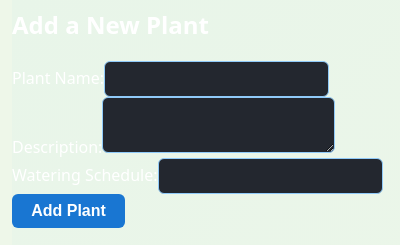
Test: PlantForm Component Tests › submit button is disabled while loading
Type "Test" into the field labelled "Plant Name:" at {"x": 216, "y": 79}, box top-left (104, 61), bottom-right (329, 97)
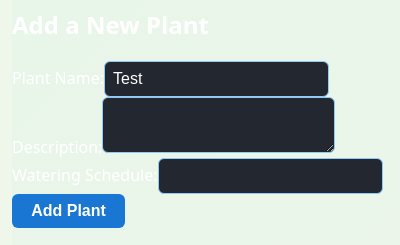
Type "Desc" into the text box labelled "Description:" at {"x": 219, "y": 125}, box top-left (102, 97), bottom-right (335, 153)
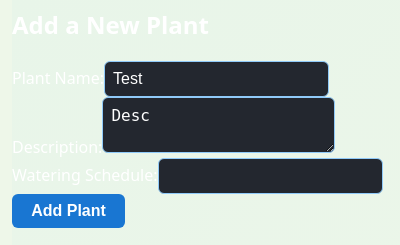
Type "Every day" into the field labelled "Watering Schedule:" at {"x": 270, "y": 176}, box top-left (158, 158), bottom-right (382, 194)
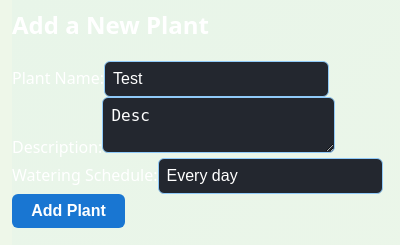
Click the button "Add Plant" at {"x": 68, "y": 211}, box top-left (12, 194), bottom-right (125, 228)
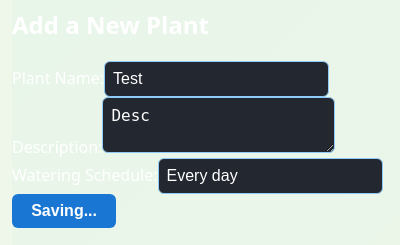
Expected: the button "Saving..." is disabled, top-left (12, 194), bottom-right (116, 228)
